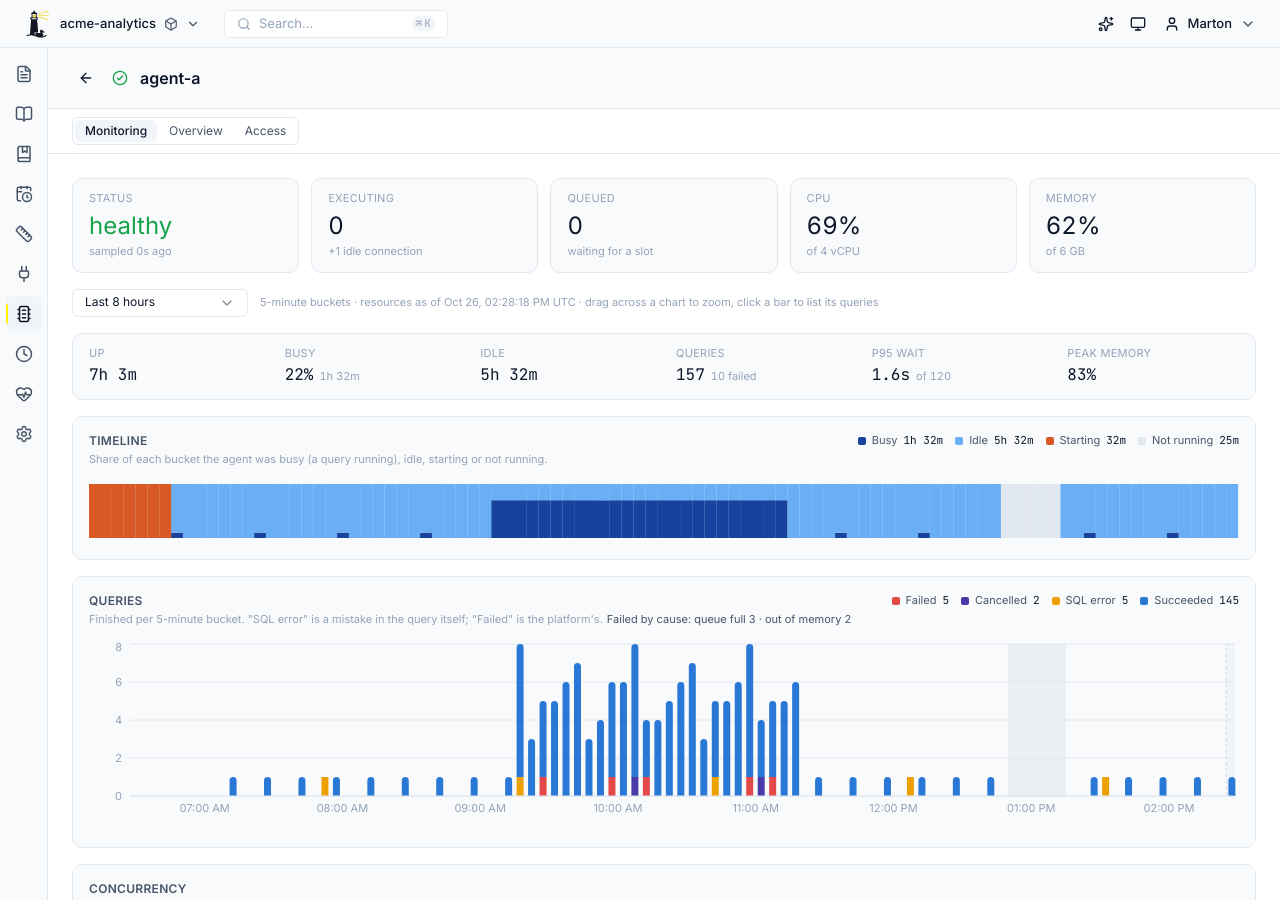
AgentDetailPage › overview tab › lists every extension in full rather than truncating the line
The image size is (1280, 900).
Click the tab "Overview" at (196, 131), box [159,120,233,142]
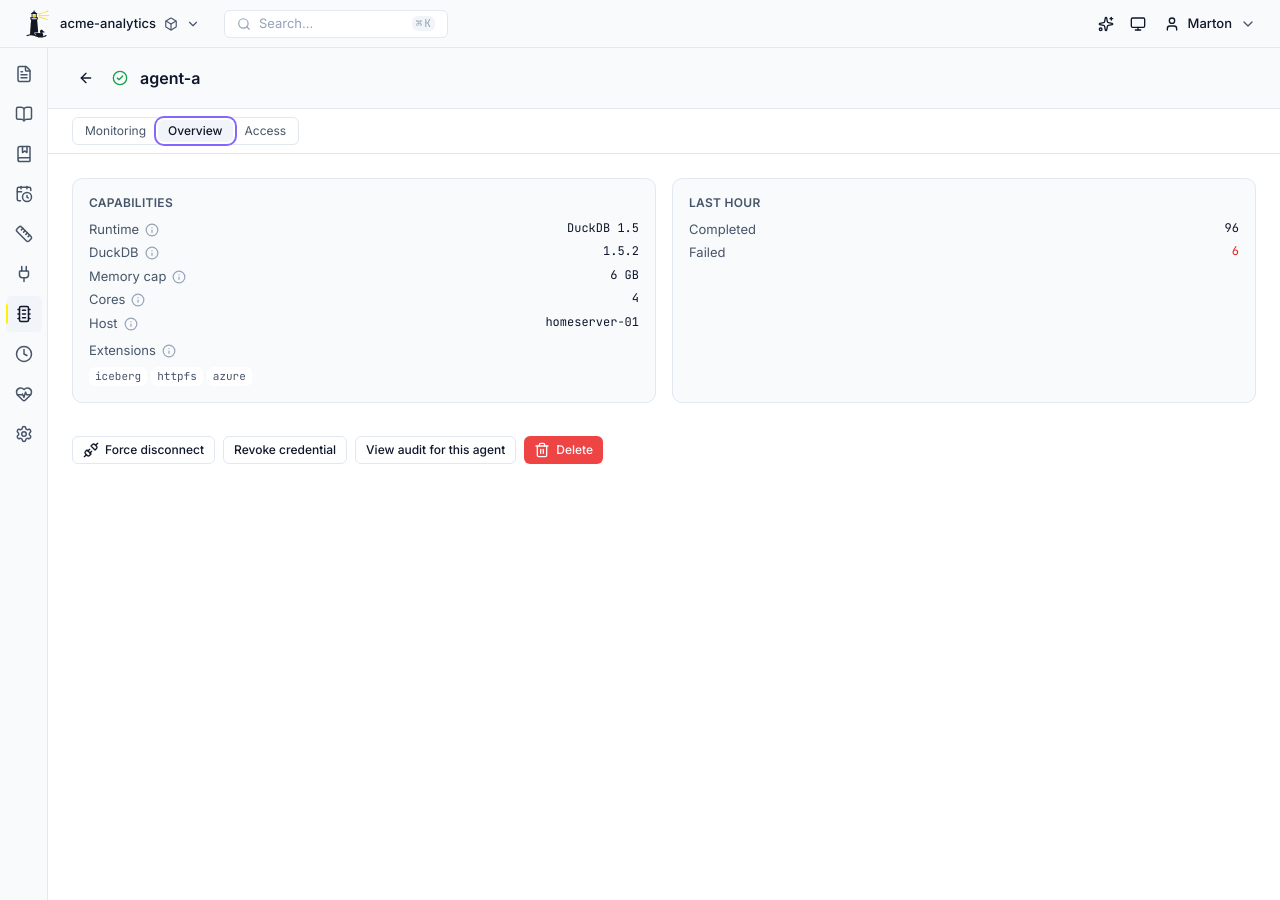
Expected: the list items read "iceberg", "httpfs", "azure", in this order, [89,367,147,386]; [151,367,203,386]; [207,367,252,386]
